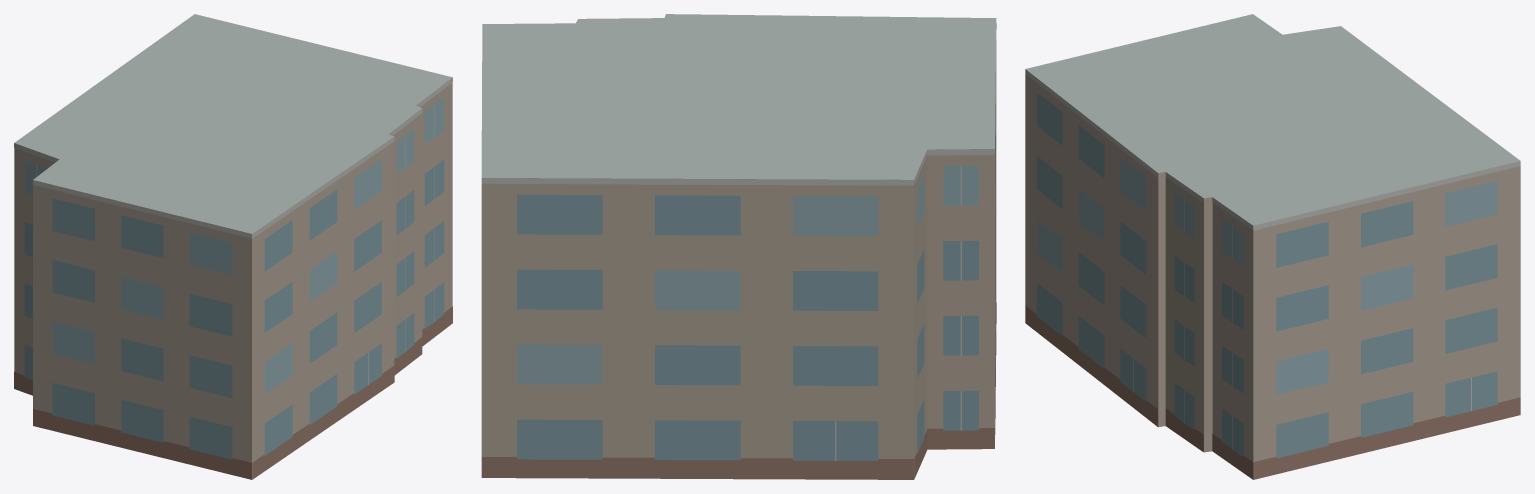
File: survey-upis-32658725.glb
The picture shows the model from 3 angles, left to right: view 1: azimuth 30°, elevation 25°; view 2: azimuth 150°, elevation 25°; view 3: azimuth 270°, elevation 25°; orthographic projection. The views are drawn at different scales.
Visible parts, largest first — view 1: survey-upis-32658725.tmp; view 2: survey-upis-32658725.tmp; view 3: survey-upis-32658725.tmp.
Part boxes in pixels (box(x1,y1,x2,y2)): survey-upis-32658725.tmp: box(14, 14, 452, 479); survey-upis-32658725.tmp: box(481, 14, 996, 479); survey-upis-32658725.tmp: box(1025, 14, 1520, 479).
Size of the model in its own units: 22.17 by 12.4 by 21.91.
